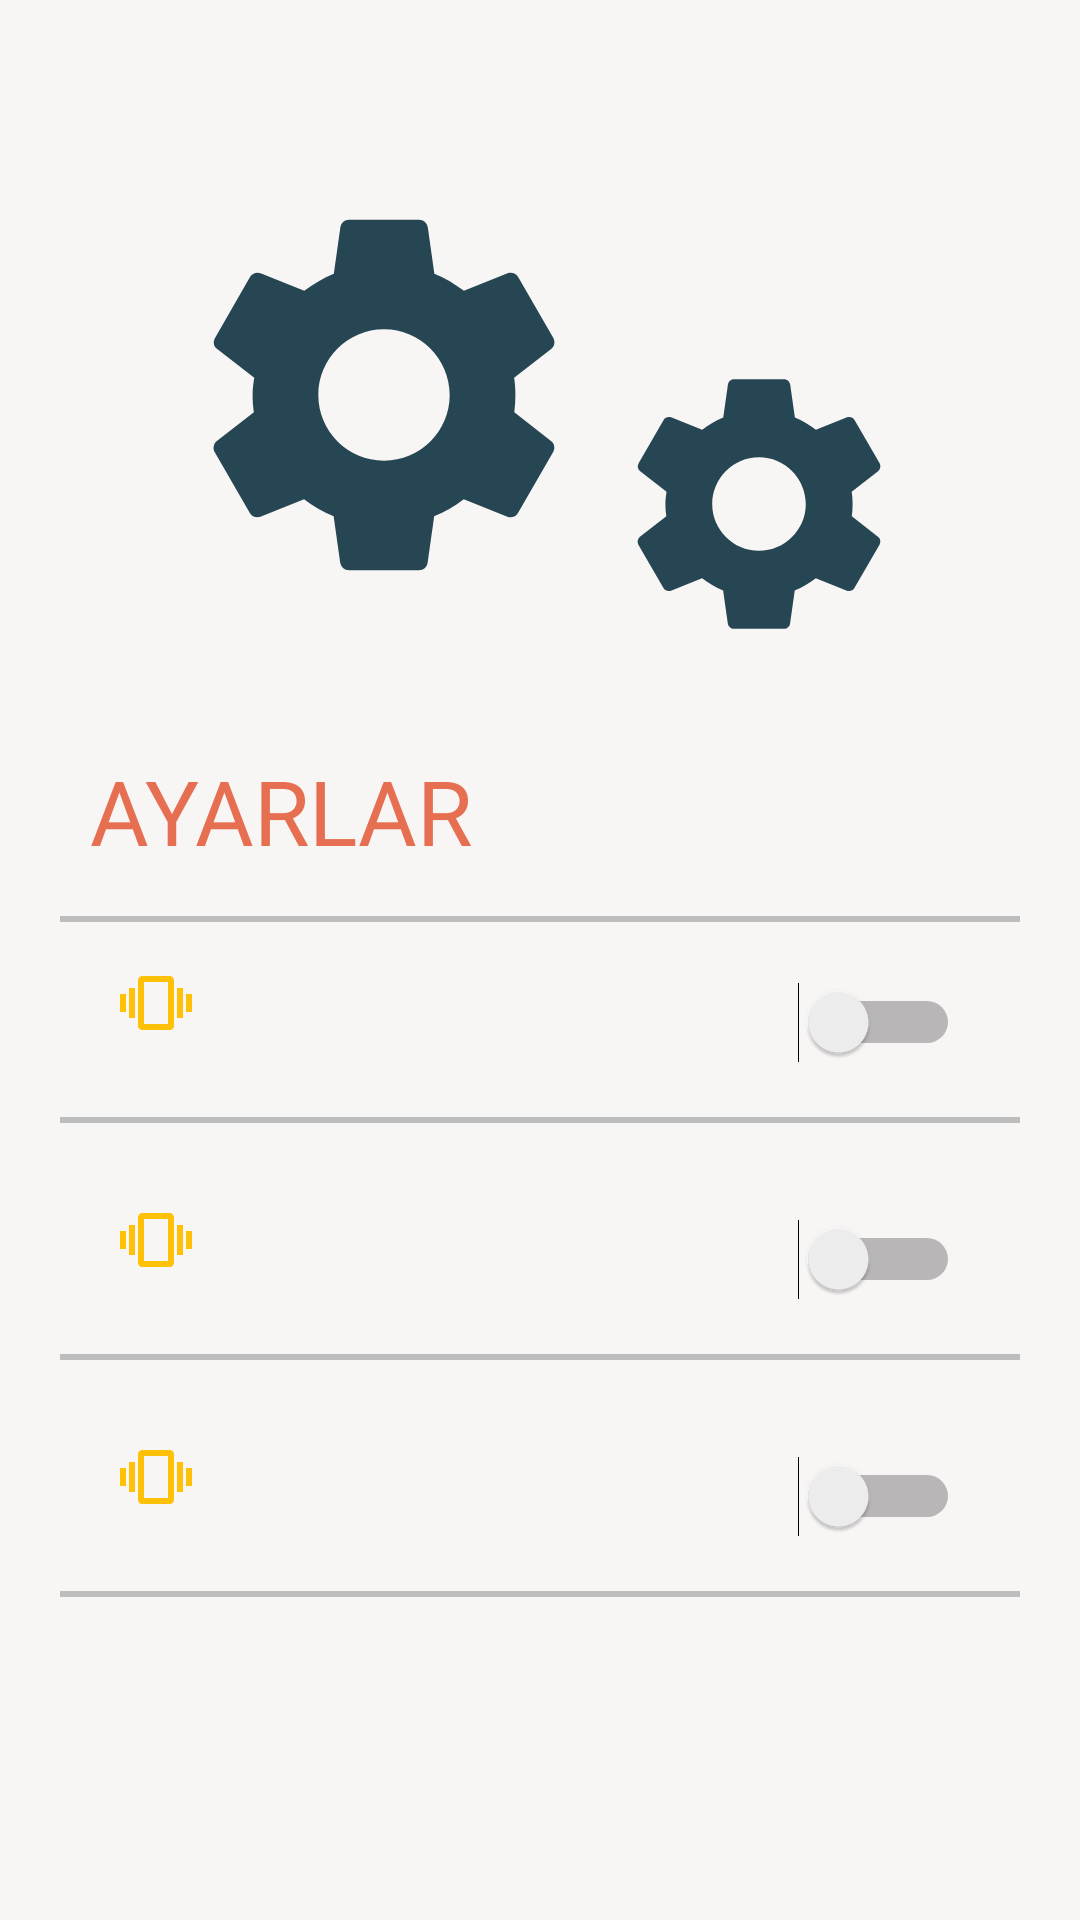

Icon bounding boxes for this 1080×1920 phone screenshot, format (x1, y1, x2, y2):
settings: (213, 219, 555, 571), (637, 379, 881, 629)
vibration: (120, 976, 192, 1030), (120, 1213, 192, 1267), (120, 1450, 192, 1504)
